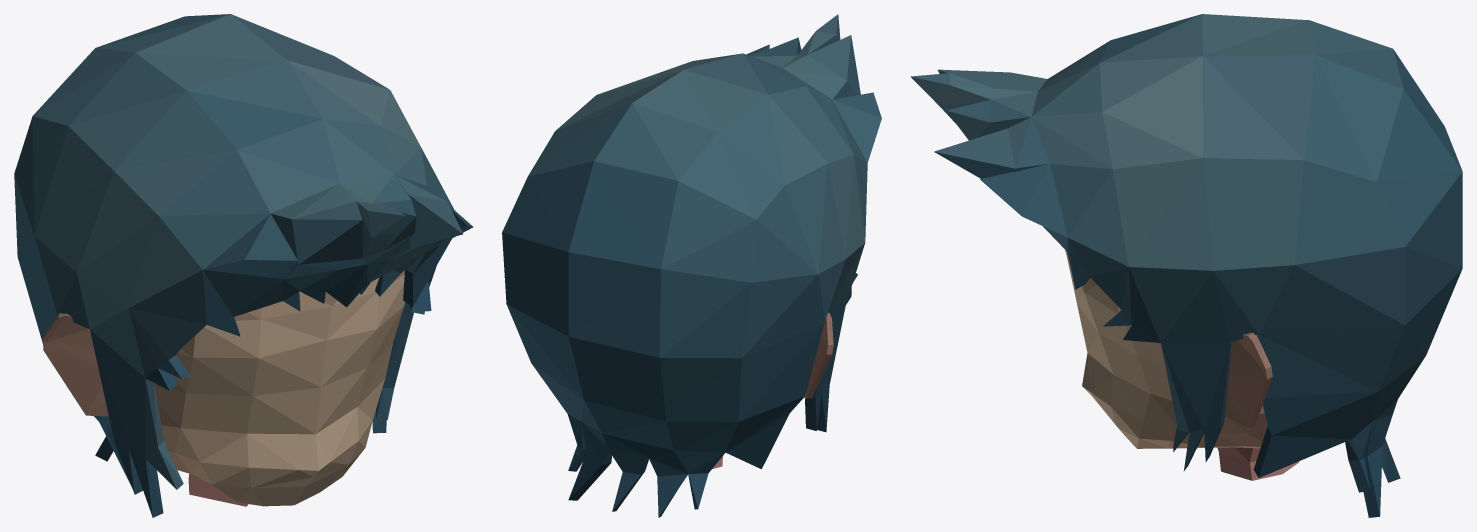
Rendered from helm_lightskin_standard_blue.fbx.
3 renders of one model, left to right at view 1: azimuth 30°, elevation 25°; view 2: azimuth 150°, elevation 25°; view 3: azimuth 270°, elevation 25°, orthographic. The views are drawn at different scales.
Visible parts, largest first — view 1: helm_lightskin_standard_blue; view 2: helm_lightskin_standard_blue; view 3: helm_lightskin_standard_blue.
Boxes of the visible parts, x1,y1,x2,y2 form: helm_lightskin_standard_blue: (14, 14, 473, 517); helm_lightskin_standard_blue: (502, 14, 881, 517); helm_lightskin_standard_blue: (910, 14, 1462, 517).
Bounding box in the file's own units: 1.13 × 1.38 × 1.55.
